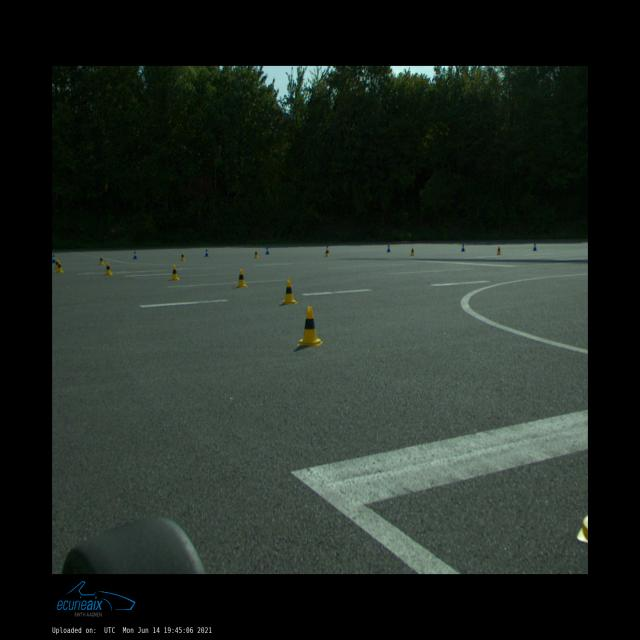blue_cone: (532, 243, 538, 251), (460, 244, 466, 252), (133, 252, 138, 260), (325, 245, 330, 252), (265, 247, 270, 254), (52, 255, 56, 263), (204, 250, 209, 256), (387, 245, 391, 252)
yellow_cone: (298, 306, 322, 346), (282, 280, 298, 304), (235, 269, 248, 288), (171, 265, 180, 280), (104, 262, 112, 276), (56, 260, 64, 272), (99, 255, 105, 265), (496, 246, 502, 255), (324, 248, 330, 257), (180, 252, 186, 261), (253, 250, 259, 258), (410, 247, 415, 256), (54, 258, 58, 269)
